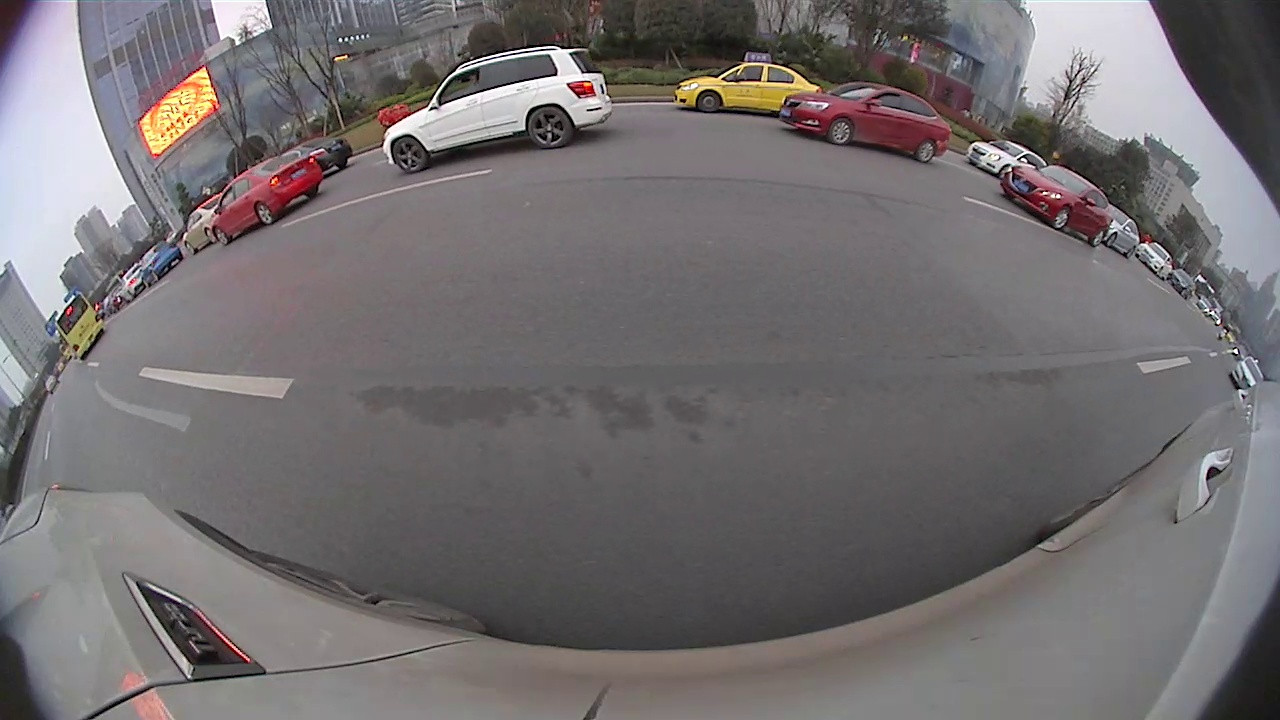bus: (54, 290, 108, 360)
car: (384, 45, 616, 177), (780, 79, 948, 166), (209, 149, 324, 247), (670, 51, 832, 113), (998, 164, 1109, 251), (182, 192, 232, 256), (965, 138, 1047, 172), (289, 132, 356, 171), (1098, 203, 1139, 261)
front: (388, 135, 433, 174), (825, 117, 855, 147), (695, 89, 726, 117), (1049, 207, 1071, 233), (212, 225, 236, 247)
rear: (522, 104, 578, 153), (253, 202, 278, 228), (916, 139, 938, 164), (305, 181, 321, 201), (1090, 228, 1104, 248), (336, 157, 350, 173)
